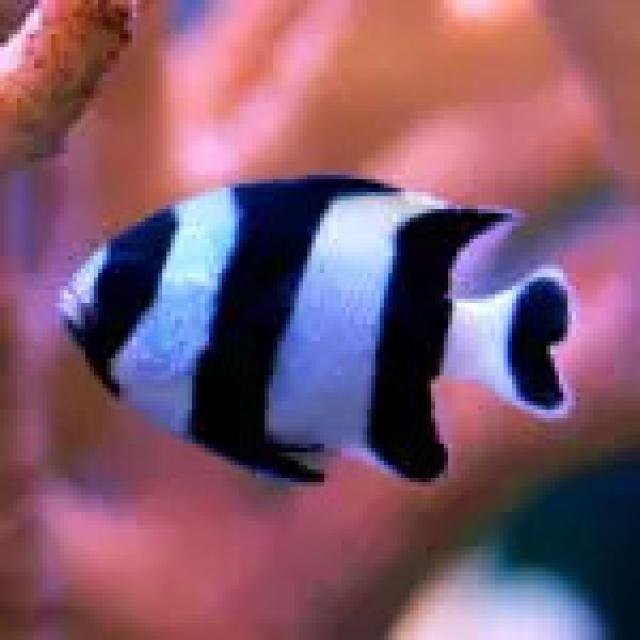ThreeStripedDamselfish: (58, 168, 574, 490)
